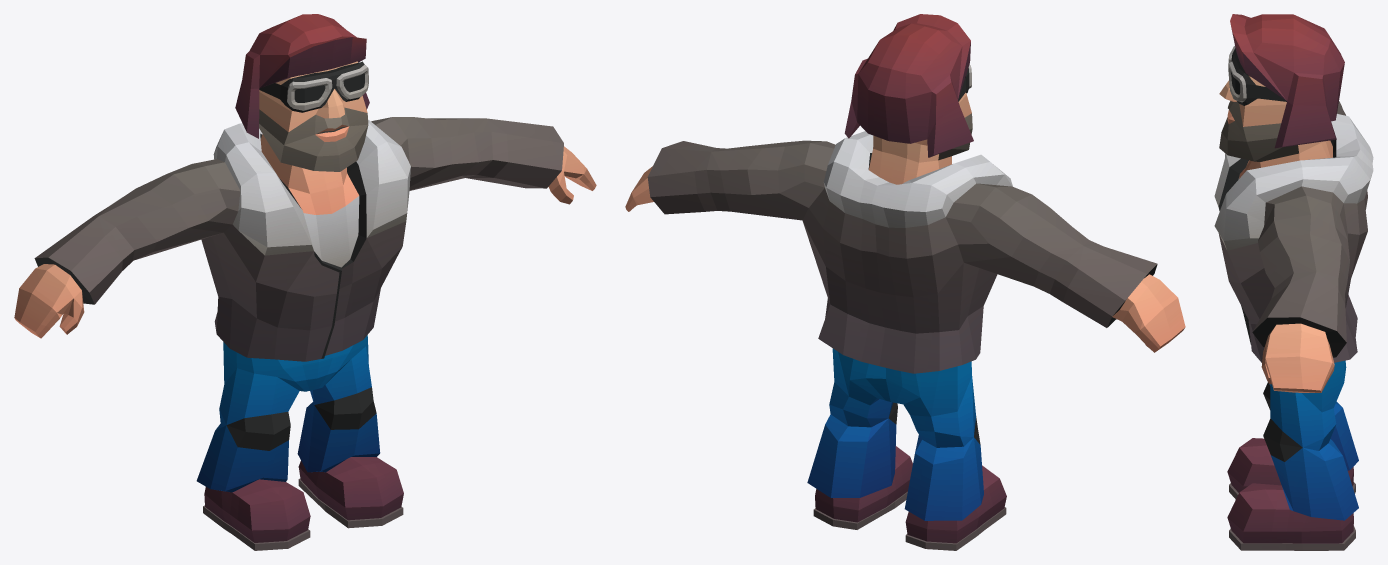
Rendered from fbx-Jimmy-just-mesh.fbx.
3 views of the same model, side by side, from view 1: azimuth 30°, elevation 25°; view 2: azimuth 150°, elevation 25°; view 3: azimuth 270°, elevation 25° (orthographic). The views are drawn at different scales.
Visible parts, largest first — view 1: mesh-pingers; view 2: mesh-pingers; view 3: mesh-pingers.
Boxes of the visible parts, x1=… form: mesh-pingers: x1=14, y1=14, x2=596, y2=550; mesh-pingers: x1=625, y1=14, x2=1185, y2=550; mesh-pingers: x1=1214, y1=14, x2=1373, y2=550.
Size of the model in its own units: 21.5 by 18.22 by 5.29.
